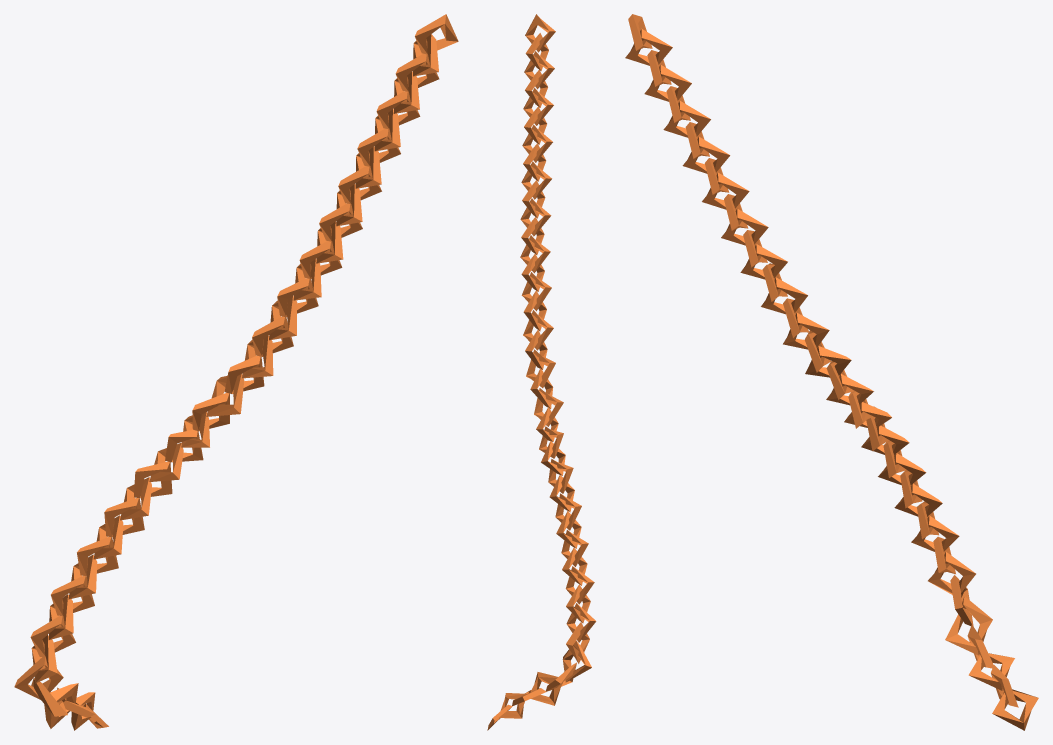
The model's file is Chain FL.fbx.
3 views of the same model, side by side, from view 1: azimuth 30°, elevation 25°; view 2: azimuth 150°, elevation 25°; view 3: azimuth 270°, elevation 25° (orthographic). The views are drawn at different scales.
Visible parts, largest first — view 1: SHIP.005; view 2: SHIP.005; view 3: SHIP.005.
Part boxes in pixels (box(x1,y1,x2,y2)): SHIP.005: box(14, 14, 458, 730); SHIP.005: box(487, 14, 596, 730); SHIP.005: box(625, 14, 1038, 730).
Size of the model in its own units: 691 by 2039 by 980.
